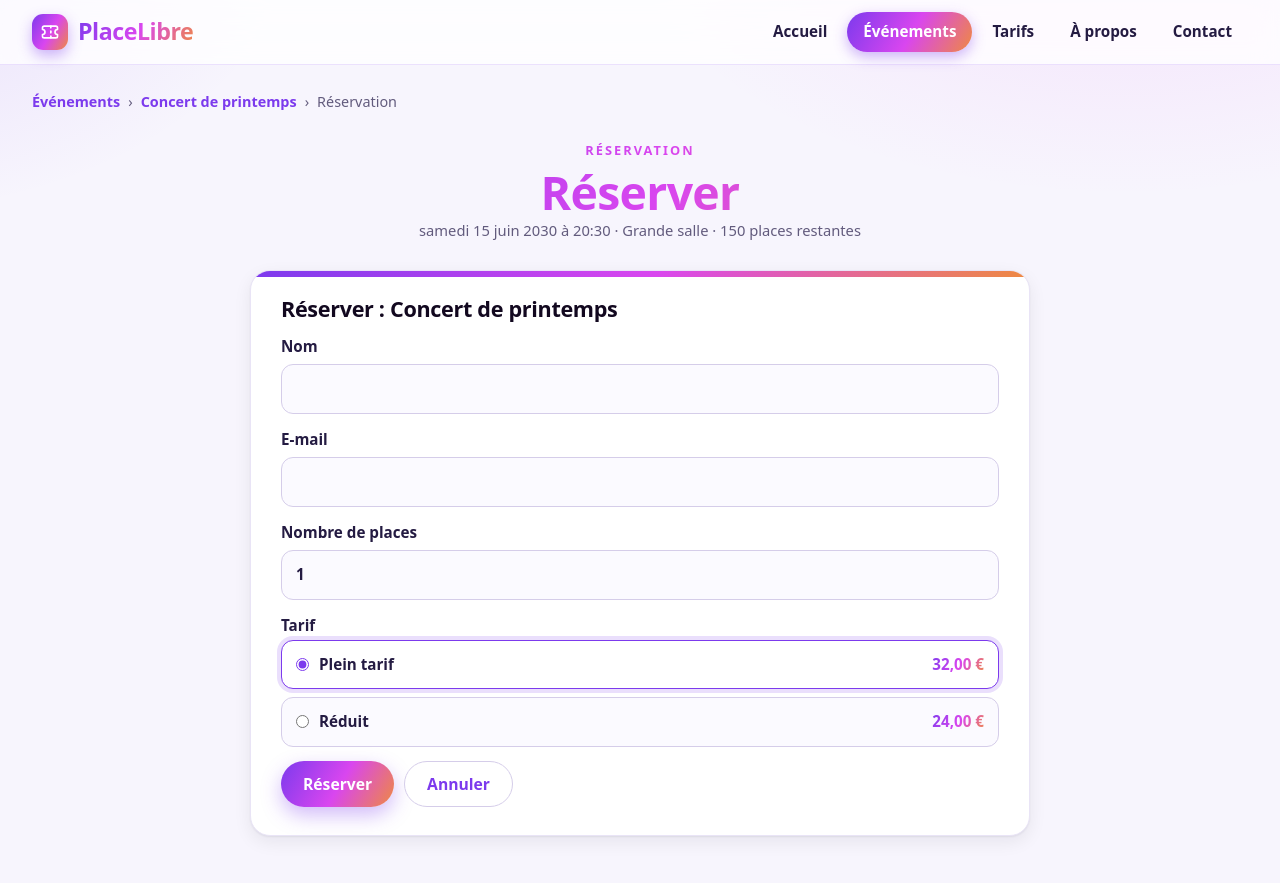
Test: page de réservation (/evenements/:id/reserver) › réutilise la même clé d'idempotence pour une nouvelle tentative, et la renouvelle si la saisie change
Later steps or results of the test are not shown.
Step 1. Type "Ada" into the field labelled "Nom" → (640, 389), box [281,364,999,414]
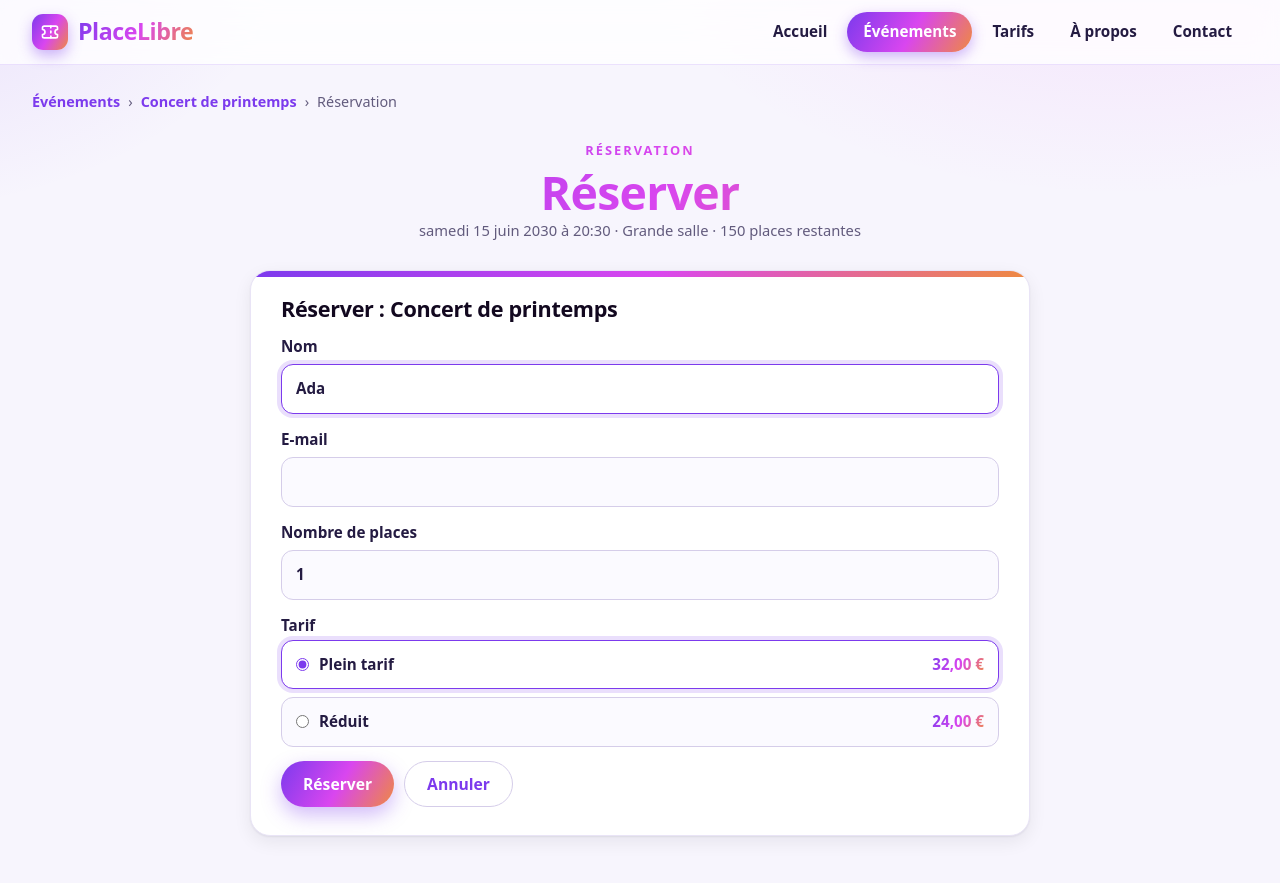
Step 2. Type "ada@example.com" into the field labelled "E-mail" → (640, 482), box [281,457,999,507]
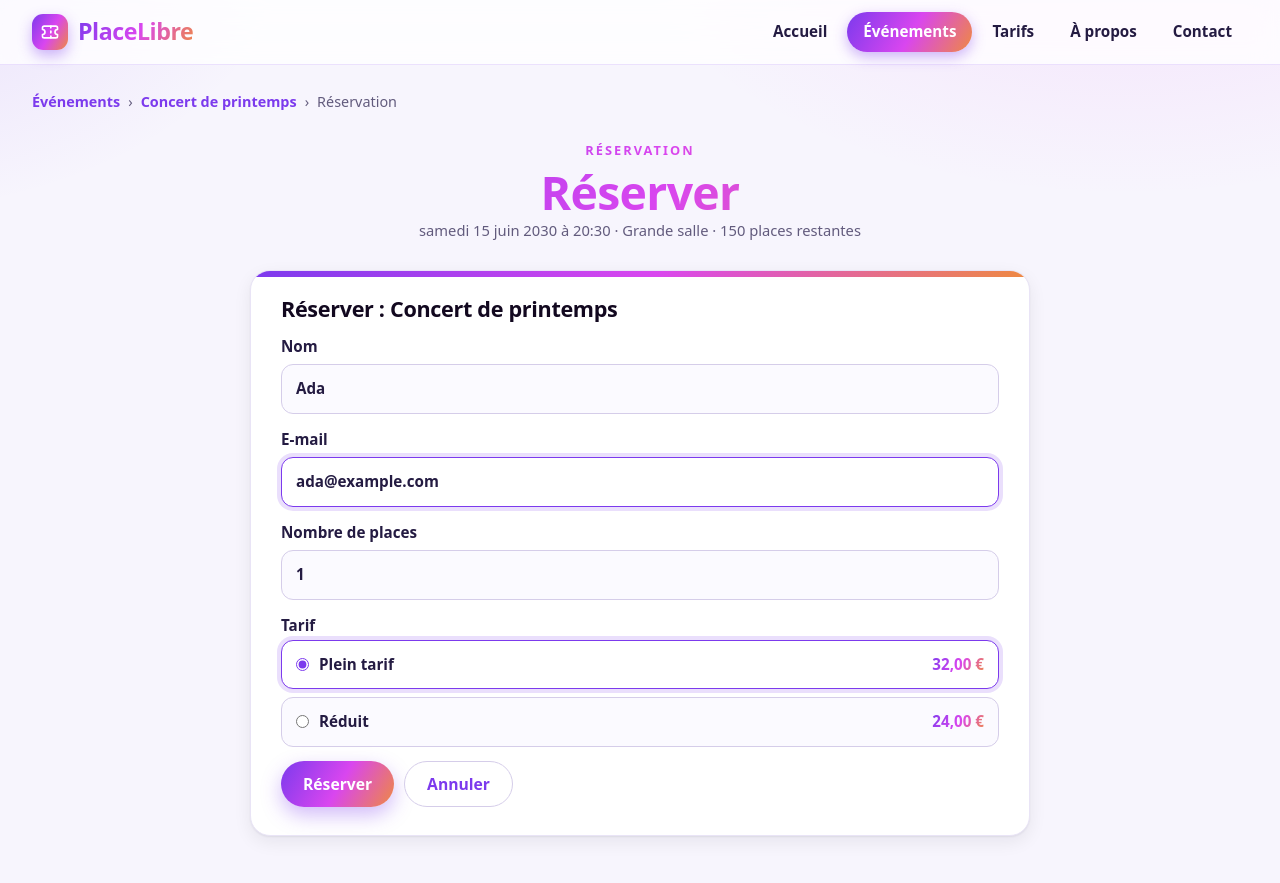
Step 3. Click the button "Réserver" → click(338, 784), box [281,761,394,807]
(page scrolled)
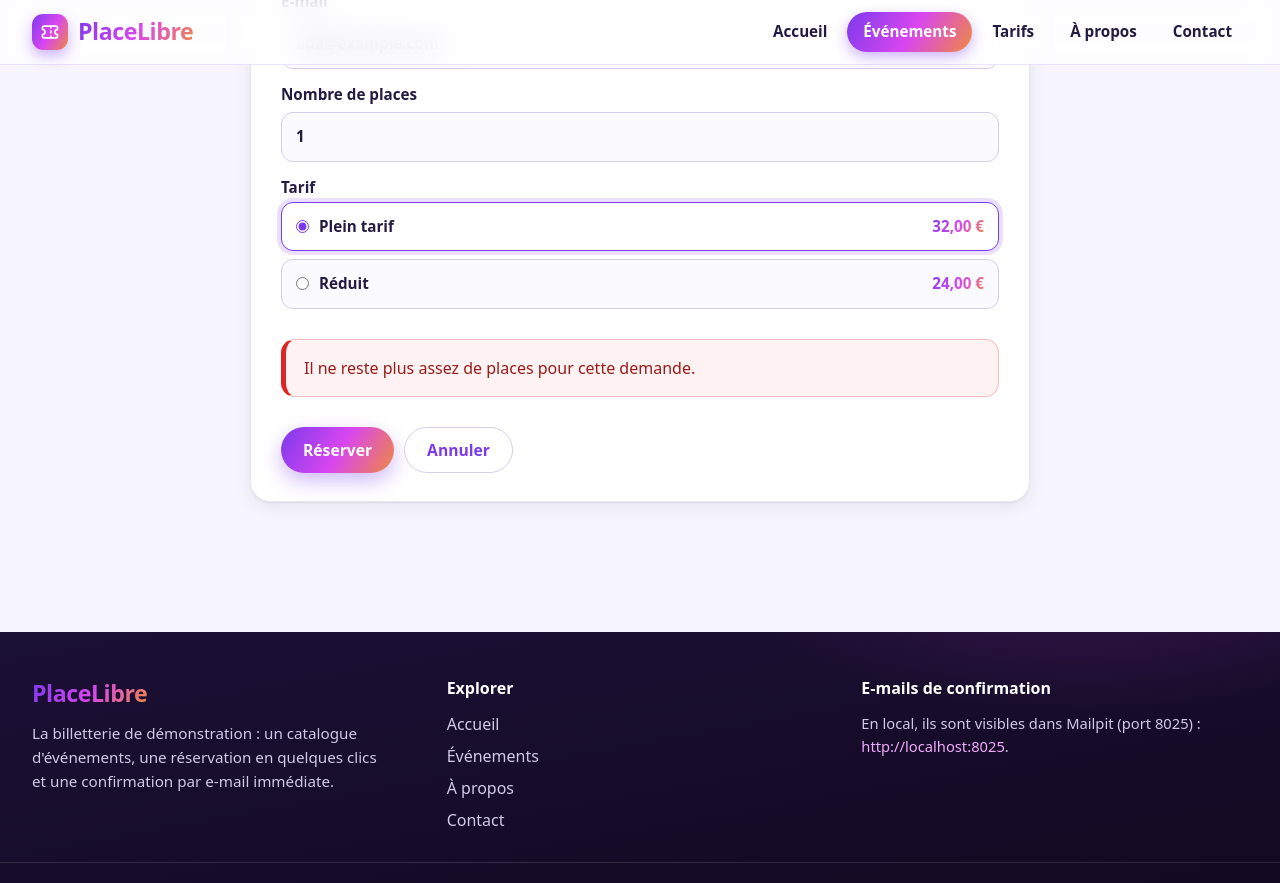
Expected: the message "Il ne reste plus assez de places pour cette demande." is shown, [281,339,999,397]
